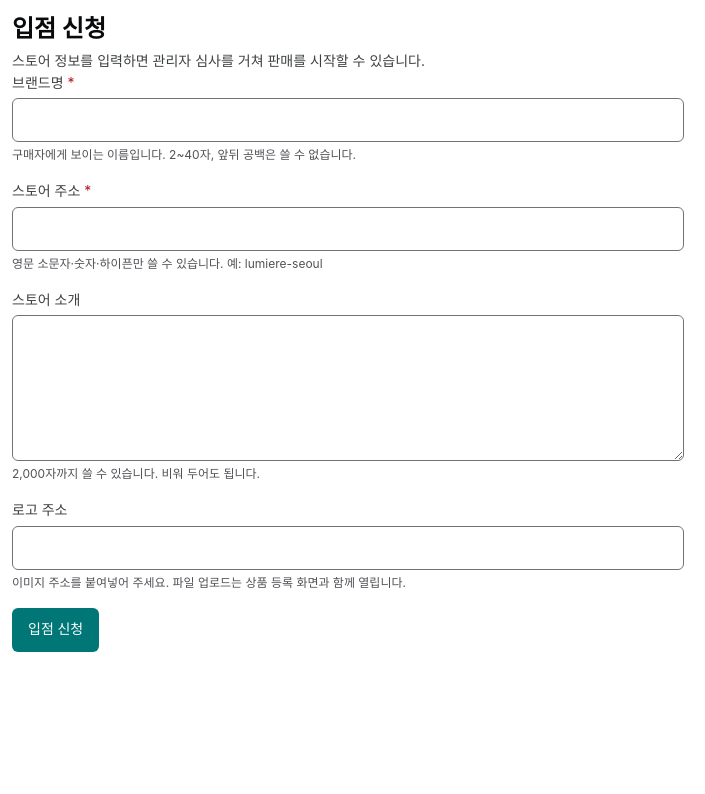
Test case: F1 — applying › sends a body the contract accepts and says what happened
Type "해뜰녘" into the field labelled "브랜드명 *" at (348, 120), box [12, 98, 684, 142]
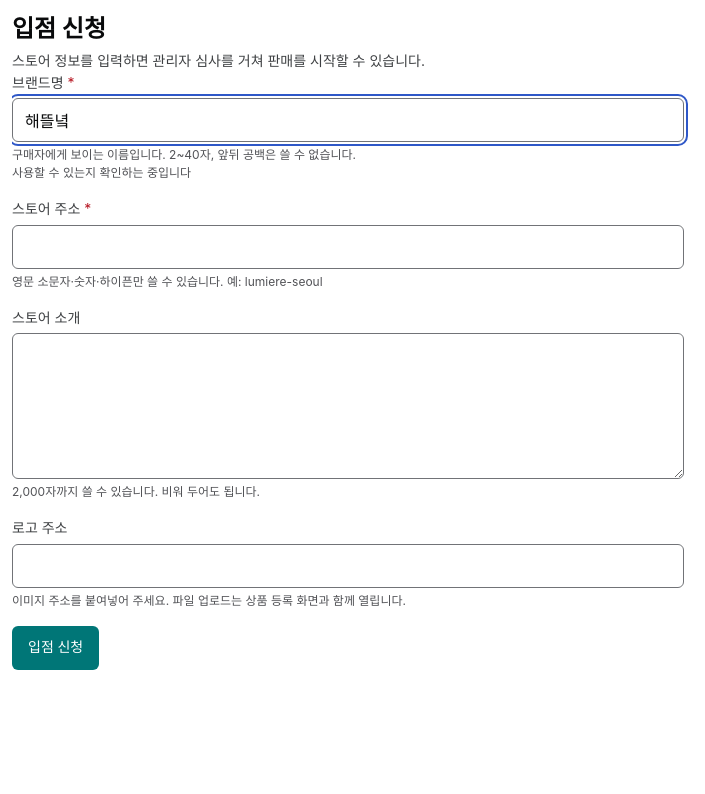
Type "haetteulnyeok" into the field labelled "스토어 주소 *" at (348, 247), box [12, 225, 684, 269]
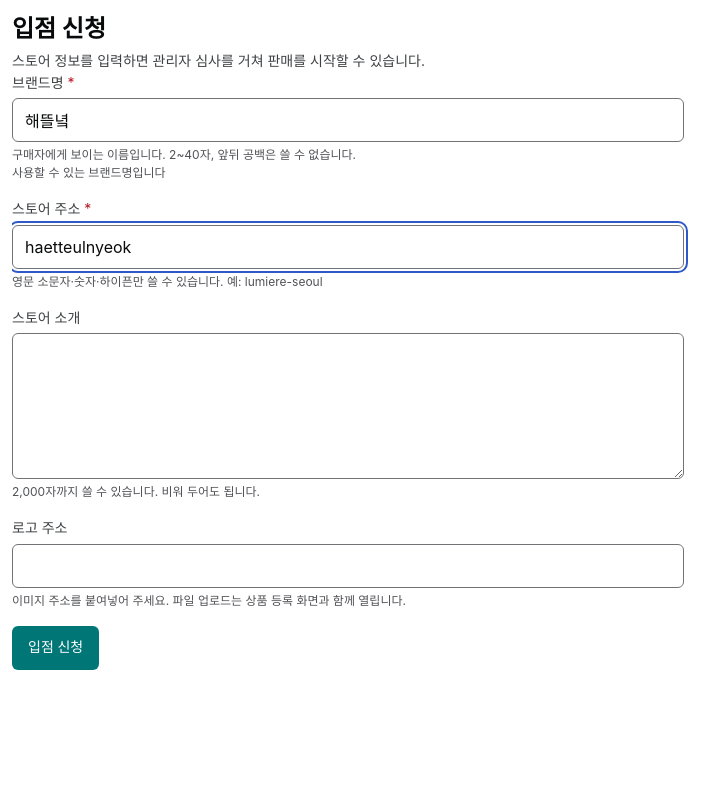
Type "아침 햇살 색으로 물들인 리넨." into the text box labelled "스토어 소개" at (348, 406), box [12, 333, 684, 479]
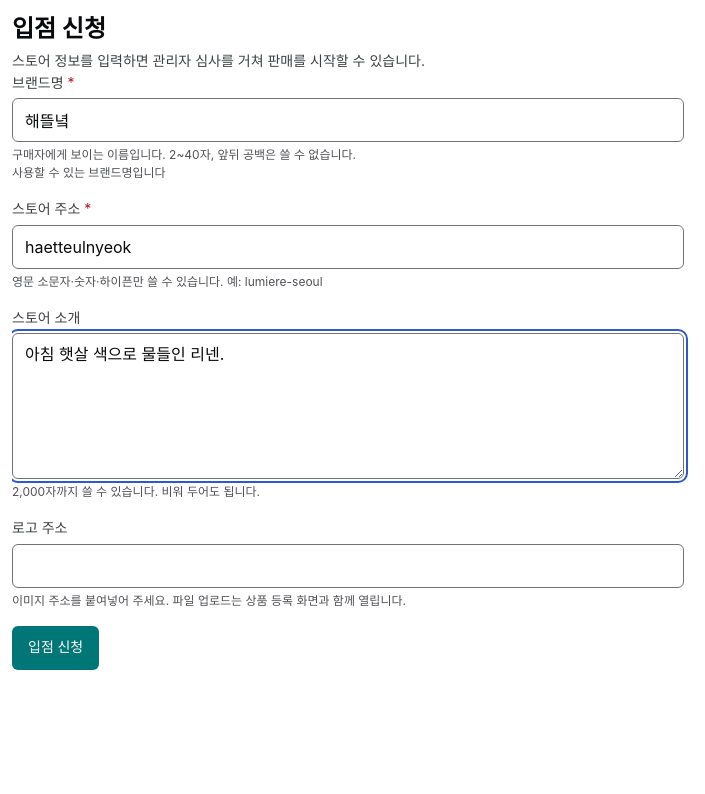
Click the button "입점 신청" at (56, 648), box [12, 626, 99, 670]
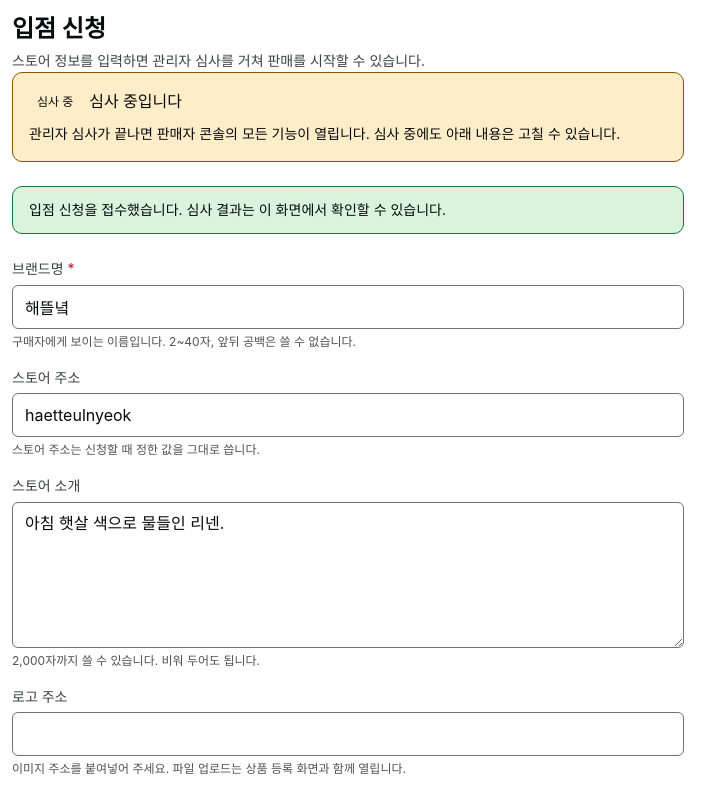
Check: the text "입점 신청을 접수했습니다. 심사 결과는 이 화면에서 확인할 수 있습니다." is shown, box [12, 186, 684, 234]
